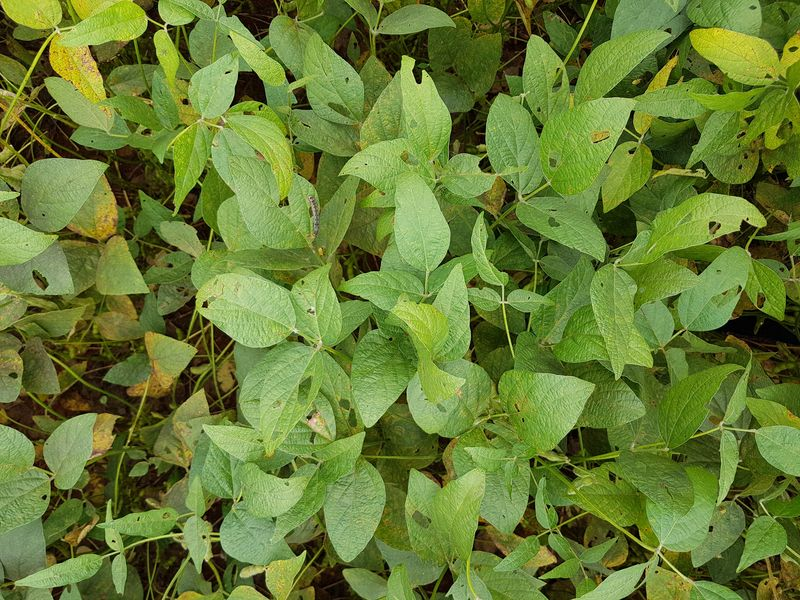Spodoptera_albula: (290, 187, 335, 243)
